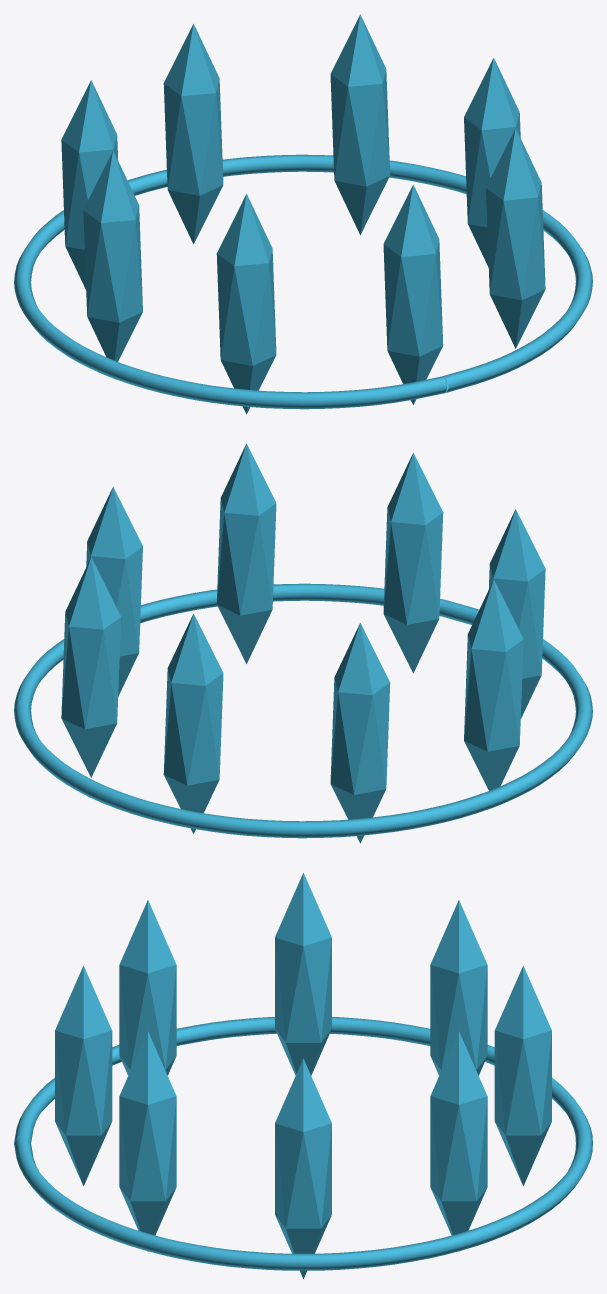
Rendered from ability-3-refined-v15.fbx.
3 renders of one model, top to bottom at view 1: azimuth 30°, elevation 25°; view 2: azimuth 150°, elevation 25°; view 3: azimuth 270°, elevation 25°, orthographic.
Visible parts, largest first — view 1: AreaRune, ElementalShard.003, ElementalShard.004, ElementalShard.001, ElementalShard.006, ElementalShard, ElementalShard.007, ElementalShard.002, ElementalShard.005; view 2: AreaRune, ElementalShard.001, ElementalShard, ElementalShard.003, ElementalShard.006, ElementalShard.004, ElementalShard.005, ElementalShard.002, ElementalShard.007; view 3: AreaRune, ElementalShard.004, ElementalShard, ElementalShard.003, ElementalShard.001, ElementalShard.002, ElementalShard.006, ElementalShard.005, ElementalShard.007.
Boxes of the visible parts, x1=… form: AreaRune: x1=14, y1=154, x2=592, y2=409; ElementalShard.003: x1=330, y1=14, x2=390, y2=234; ElementalShard.004: x1=163, y1=24, x2=223, y2=244; ElementalShard.001: x1=486, y1=128, x2=545, y2=348; ElementalShard.006: x1=83, y1=150, x2=142, y2=361; ElementalShard: x1=383, y1=184, x2=443, y2=404; ElementalShard.007: x1=216, y1=194, x2=276, y2=414; ElementalShard.002: x1=464, y1=58, x2=520, y2=267; ElementalShard.005: x1=61, y1=80, x2=118, y2=289; AreaRune: x1=14, y1=583, x2=592, y2=838; ElementalShard.001: x1=216, y1=443, x2=276, y2=663; ElementalShard: x1=383, y1=453, x2=443, y2=673; ElementalShard.003: x1=61, y1=557, x2=120, y2=777; ElementalShard.006: x1=464, y1=579, x2=523, y2=790; ElementalShard.004: x1=163, y1=613, x2=223, y2=833; ElementalShard.005: x1=330, y1=623, x2=390, y2=843; ElementalShard.002: x1=86, y1=487, x2=142, y2=696; ElementalShard.007: x1=488, y1=509, x2=545, y2=718; AreaRune: x1=14, y1=1017, x2=592, y2=1270; ElementalShard.004: x1=494, y1=965, x2=551, y2=1186; ElementalShard: x1=55, y1=965, x2=112, y2=1186; ElementalShard.003: x1=430, y1=1031, x2=487, y2=1251; ElementalShard.001: x1=119, y1=1031, x2=176, y2=1251; ElementalShard.002: x1=275, y1=1058, x2=331, y2=1279; ElementalShard.006: x1=275, y1=872, x2=331, y2=1075; ElementalShard.005: x1=430, y1=900, x2=487, y2=1075; ElementalShard.007: x1=119, y1=900, x2=176, y2=1075.
Size of the model in its own units: 94.8 by 40 by 94.79.
